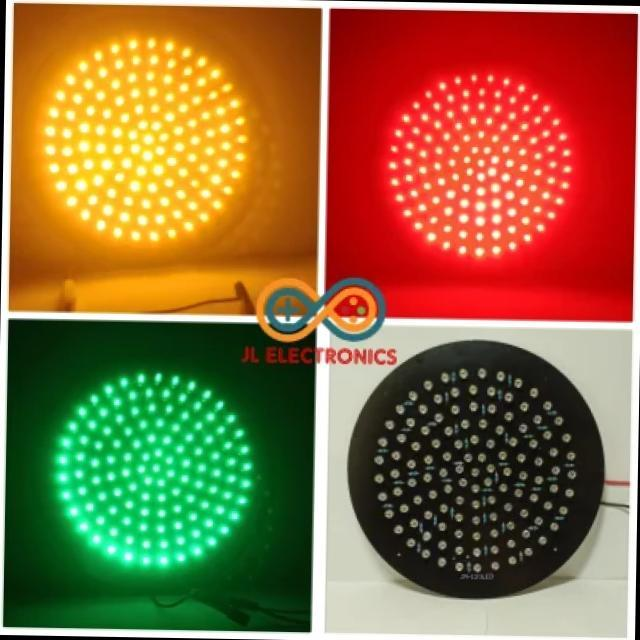green: (24, 318, 308, 614)
red: (342, 11, 622, 317)
